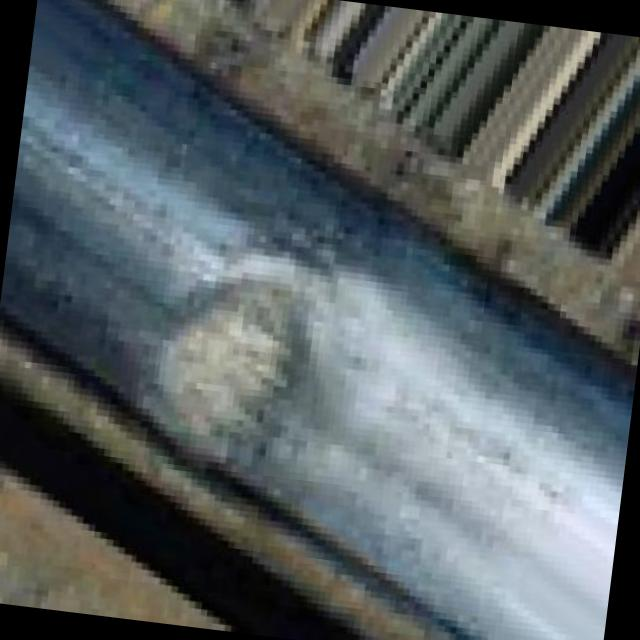defective: (71, 152, 427, 576)
